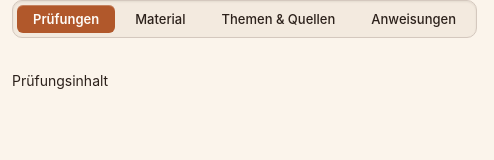
Test case: CourseWorkspace › wechselt beim Klick auf einen Reiter den sichtbaren Inhalt
Click the tab "Material". click: (160, 19)
box: [119,5,202,33]
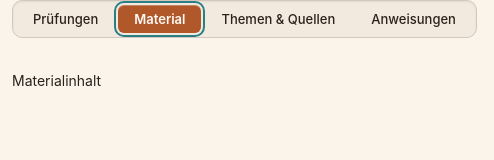
Expected: the text "Materialinhalt" is shown, [12,72,101,89]
Expected: the text "Prüfungsinhalt" is gone
